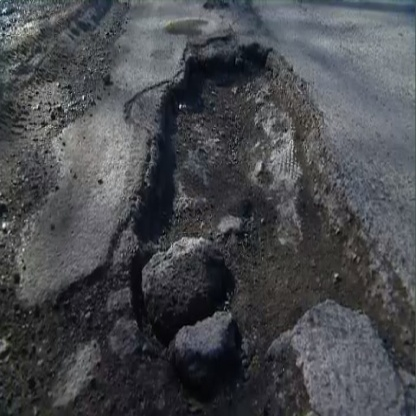pothole: (25, 18, 413, 416)
